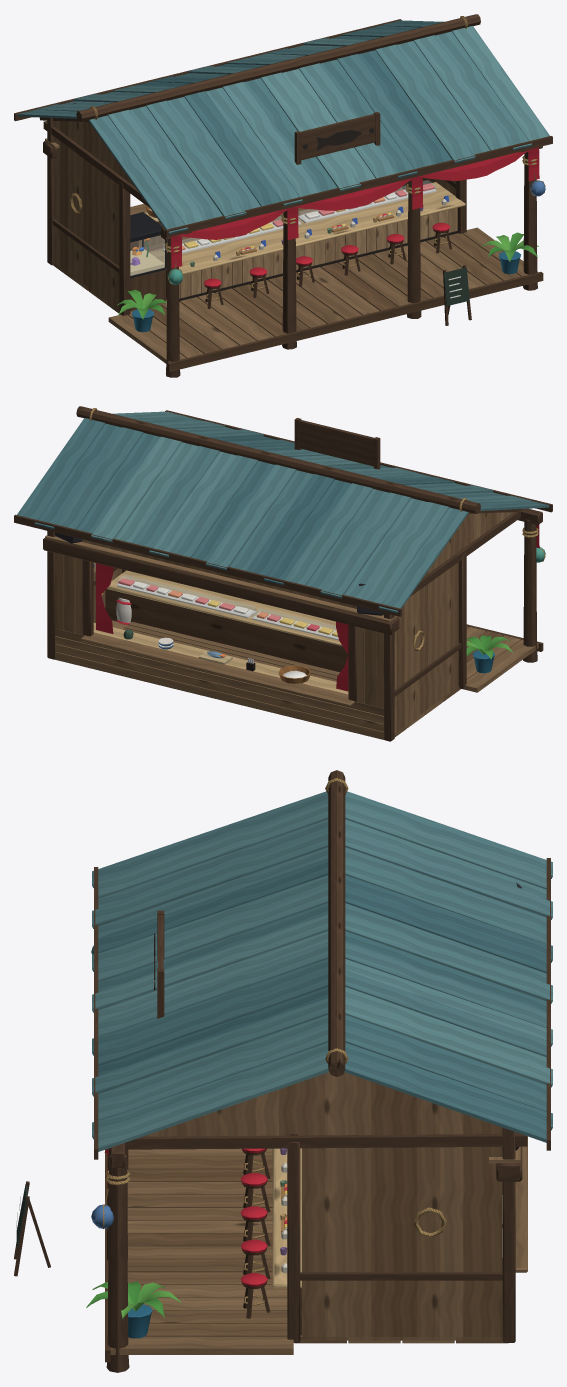
Rendered from sushi-bar.glb.
3 views of the same model, one above another, from view 1: azimuth 30°, elevation 25°; view 2: azimuth 150°, elevation 25°; view 3: azimuth 270°, elevation 25° (orthographic). The views are drawn at different scales.
Visible parts, largest first — view 1: sushi-bar; view 2: sushi-bar; view 3: sushi-bar.
Boxes of the visible parts, x1,y1,x2,y2 form: sushi-bar: (14,14,552,377); sushi-bar: (14,406,552,741); sushi-bar: (14,770,552,1372).
Bounding box in the file's own units: 9.6 × 4.98 × 7.5.
7 materials, 2 textured.
